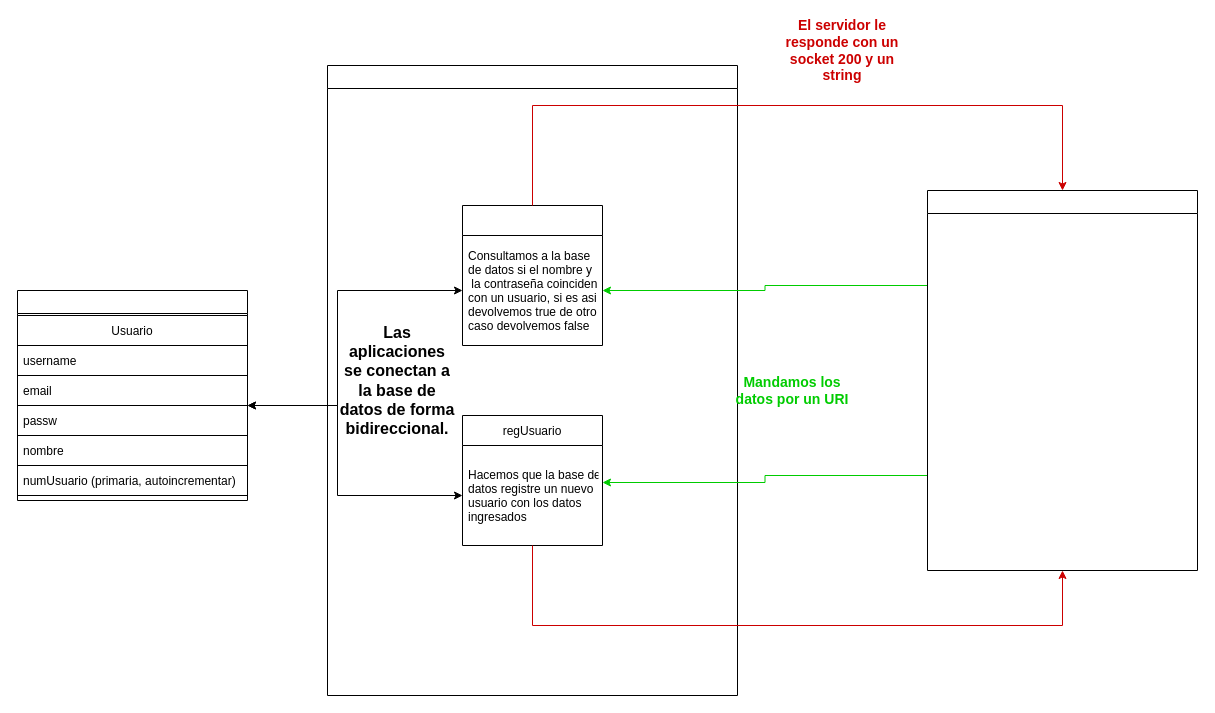
This 1215x713 diagram has some shape labels left out. Here are the shapes that lost their labels. From the top down, the box of each, then its label:
(462, 204, 602, 346): Booleano logUsuario
(16, 290, 248, 500): Base de datos MySQL
(326, 64, 738, 696): Coreapp
(926, 190, 1198, 570): Aplicacion front end
